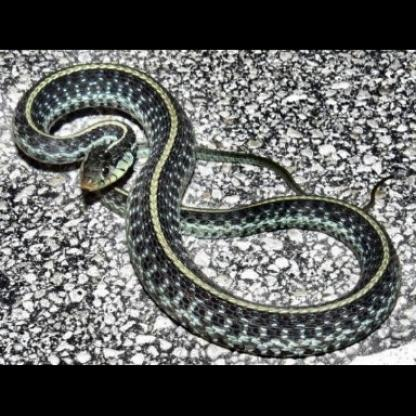Snake: (10, 58, 401, 359)
